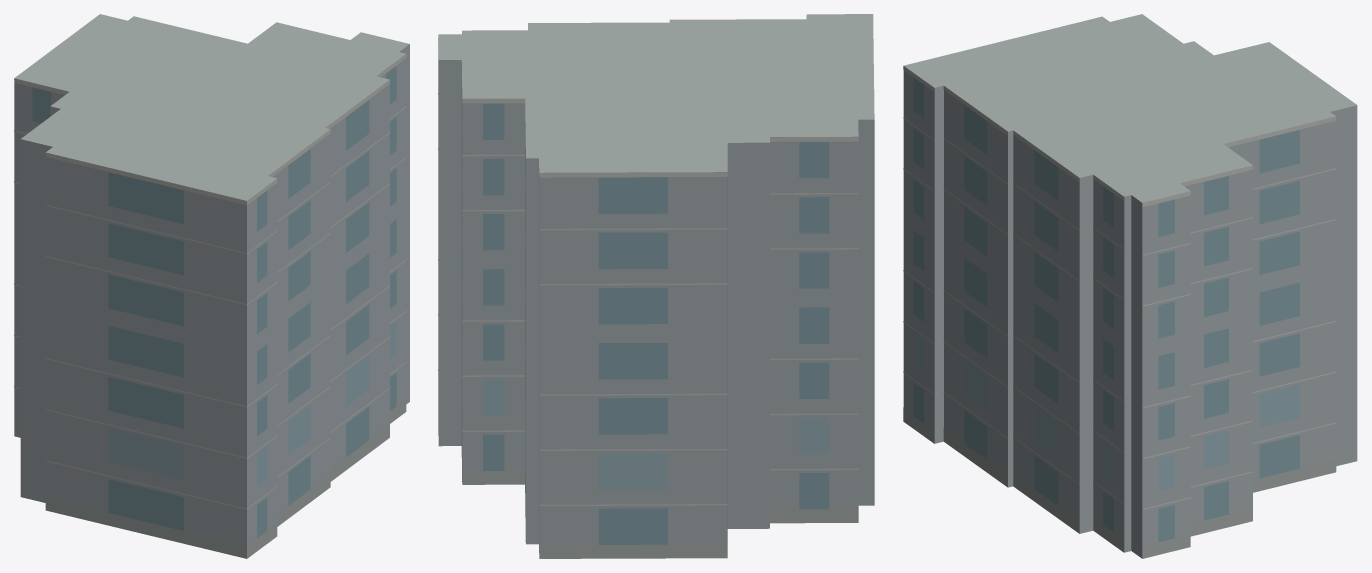
The model's file is survey-upis-32977000.glb.
3 views of the same model, side by side, from view 1: azimuth 30°, elevation 25°; view 2: azimuth 150°, elevation 25°; view 3: azimuth 270°, elevation 25° (orthographic). The views are drawn at different scales.
Parts seen in each view (by area): view 1: survey-upis-32977000.tmp; view 2: survey-upis-32977000.tmp; view 3: survey-upis-32977000.tmp.
Boxes of the visible parts, box(x1,y1,x2,y2) form: survey-upis-32977000.tmp: box(14, 14, 409, 558); survey-upis-32977000.tmp: box(438, 14, 874, 558); survey-upis-32977000.tmp: box(903, 14, 1357, 558).
Size of the model in its own units: 22.71 by 19.93 by 23.06.
